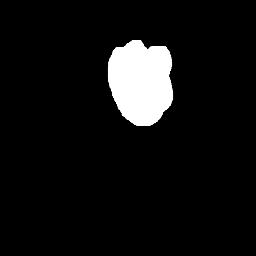mass: (115, 40, 173, 114)
